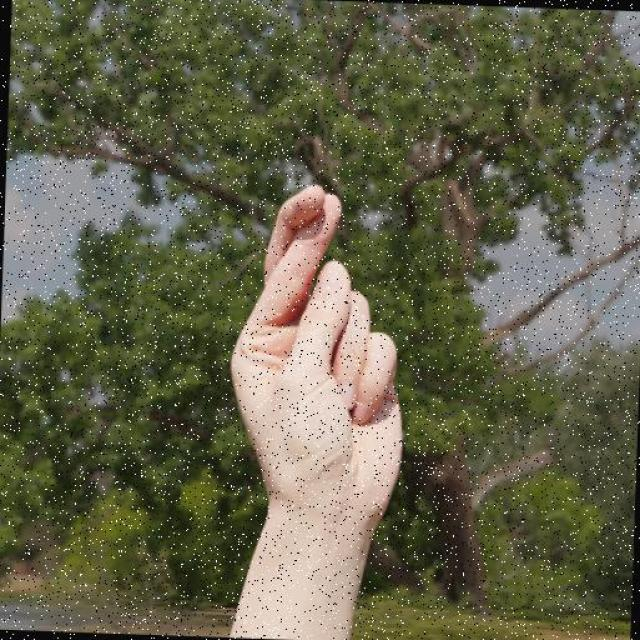R: (217, 177, 418, 534)
